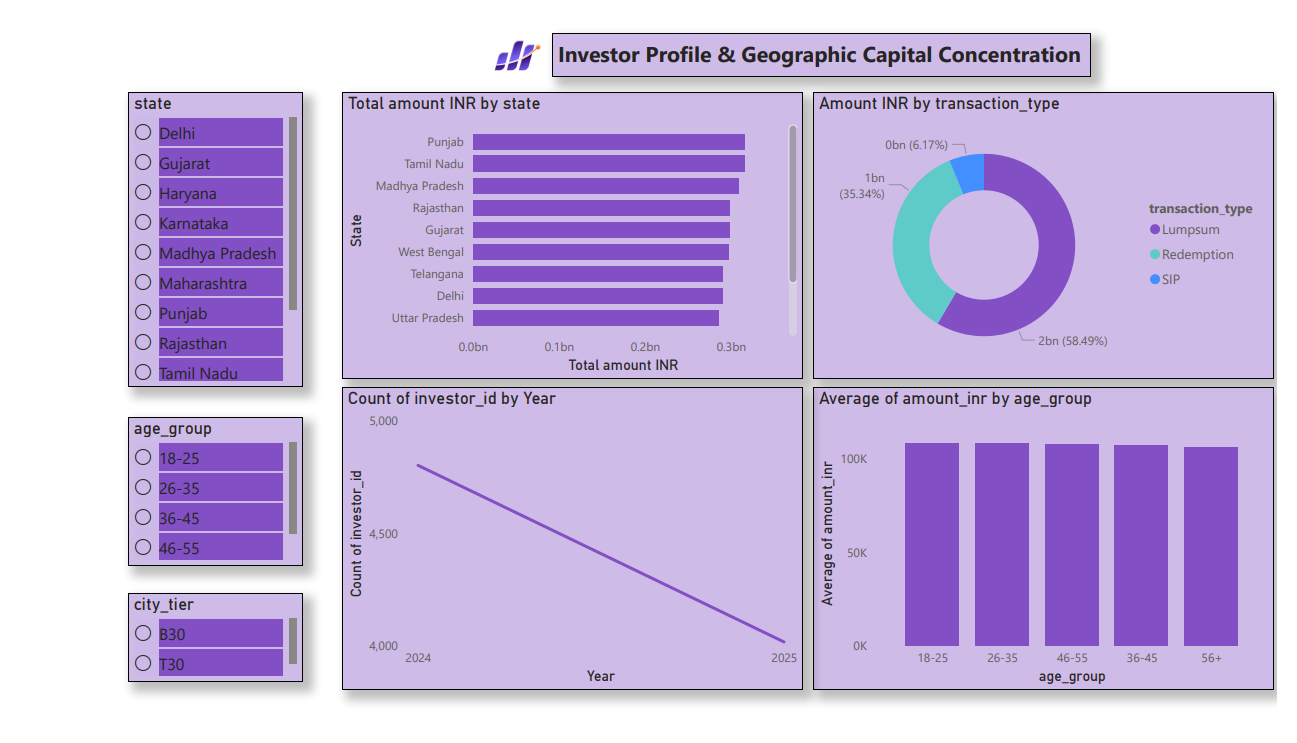

The page's visual inventory and layout, read from the dashboard file:
{"tool":"powerbi","page":{"name":"Page 3","canvas":[1280,720],"ordinal":2},"visuals":[{"type":"listSlicer","fields":{"Values":["Fact_Transactions.state"]},"box":[131.5,82.5,174.3,295.5],"z":0},{"type":"listSlicer","fields":{"Values":["Fact_Transactions.age_group"]},"box":[131.5,407.6,174.3,149.8],"z":1000},{"type":"listSlicer","fields":{"Values":["Fact_Transactions.city_tier"]},"box":[131.5,583.9,174.3,88.7],"z":2000},{"type":"clusteredBarChart","title":"Total amount INR by state","fields":{"Category":["Fact_Transactions.state"],"Y":["Sum(Fact_Transactions.amount_inr)"]},"box":[345.5,82.5,460.6,287.4],"z":3000},{"type":"donutChart","title":"Amount INR by transaction_type","fields":{"Category":["Fact_Transactions.transaction_type"],"Y":["Sum(Fact_Transactions.amount_inr)"]},"box":[816.3,82.5,460.6,287.4],"z":4000},{"type":"clusteredColumnChart","fields":{"Category":["Fact_Transactions.age_group"],"Y":["Avg(Fact_Transactions.amount_inr)"]},"box":[816.3,378.1,460.6,302.7],"z":5000},{"type":"lineChart","fields":{"Category":["Fact_Transactions.transaction_date.Variation.Date Hierarchy.Year","Fact_Transactions.transaction_date.Variation.Date Hierarchy.Quarter","Fact_Transactions.transaction_date.Variation.Date Hierarchy.Month","Fact_Transactions.transaction_date.Variation.Date Hierarchy.Day"],"Y":["Count(Fact_Transactions.investor_id)"]},"box":[345.5,378.1,460.6,302.7],"z":6000},{"type":"textbox","box":[555.4,24.5,538.1,43.8],"z":7000},{"type":"image","box":[446.4,19.4,146.8,55],"z":7001}]}

Visuals, with their boxes in screenshot pixels (x1, y1, x2, y2), scaled from the page's 1280x720 canvas onto the 1297x743 screenshot:
listSlicer - Fact_Transactions.state: region(133, 85, 310, 390)
listSlicer - Fact_Transactions.age_group: region(133, 421, 310, 575)
listSlicer - Fact_Transactions.city_tier: region(133, 603, 310, 694)
"Total amount INR by state" clusteredBarChart: region(350, 85, 817, 382)
"Amount INR by transaction_type" donutChart: region(827, 85, 1294, 382)
clusteredColumnChart - Fact_Transactions.age_group x Avg(Fact_Transactions.amount_inr): region(827, 390, 1294, 703)
lineChart - Fact_Transactions.transaction_date.Variation.Date Hierarchy.Year x Fact_Transactions.transaction_date.Variation.Date Hierarchy.Quarter: region(350, 390, 817, 703)
textbox: region(563, 25, 1108, 70)
image: region(452, 20, 601, 77)
